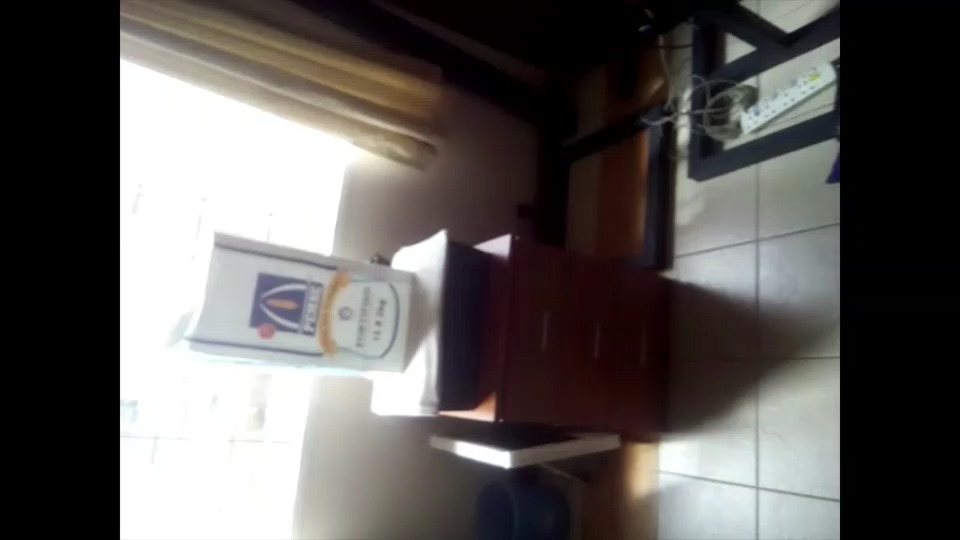wheat_flour_blue_label: (175, 231, 409, 374)
